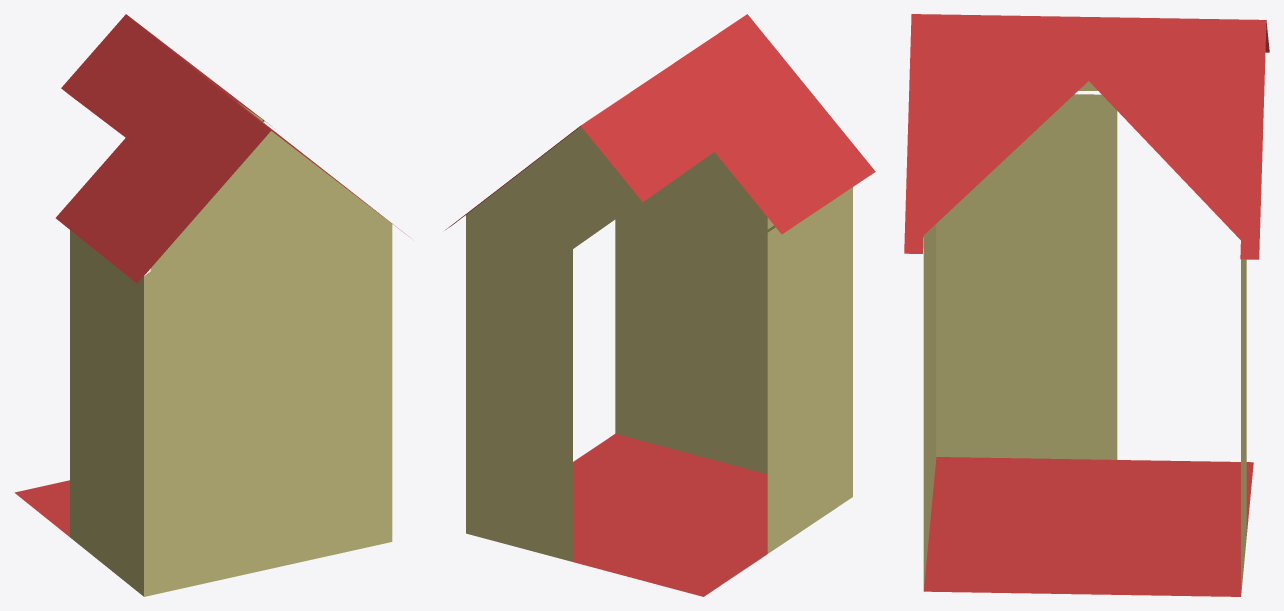
3 renders of one model, left to right at view 1: azimuth 30°, elevation 25°; view 2: azimuth 150°, elevation 25°; view 3: azimuth 270°, elevation 25°, orthographic. The views are drawn at different scales.
Size of the model in its own units: 9.84 by 9.7 by 14.86.
